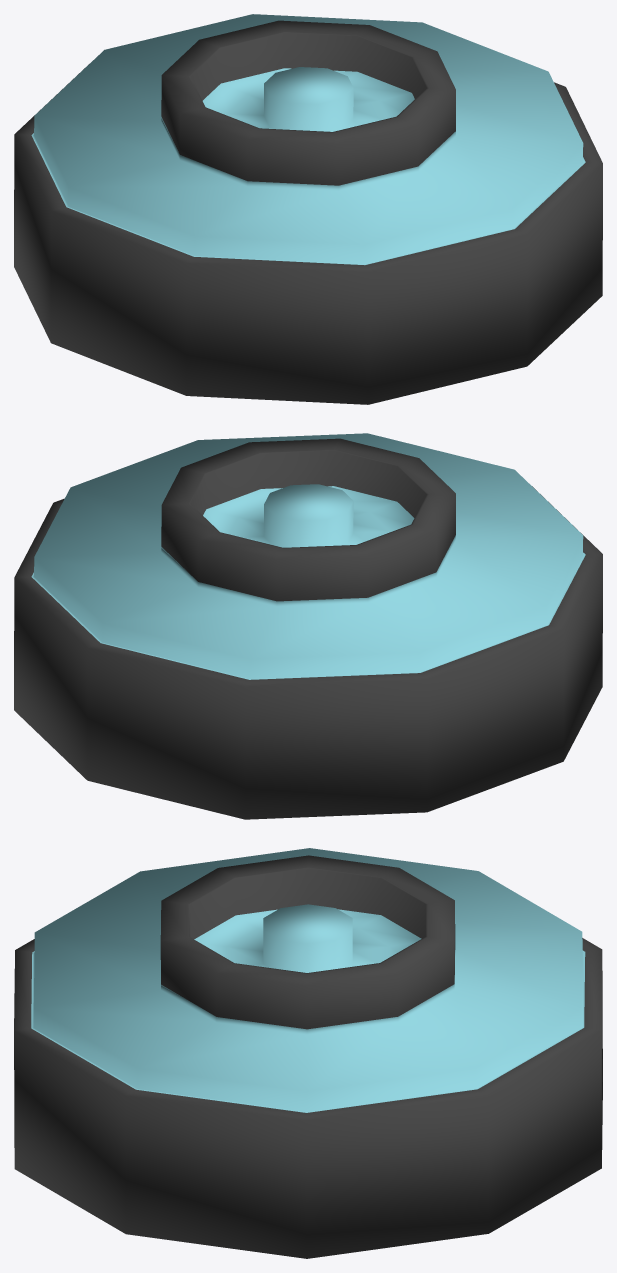
The model's file is Filter.fbx.
3 views of the same model, one above another, from view 1: azimuth 30°, elevation 25°; view 2: azimuth 150°, elevation 25°; view 3: azimuth 270°, elevation 25° (orthographic). The views are drawn at different scales.
Parts seen in each view (by area): view 1: Cylinder.001; view 2: Cylinder.001; view 3: Cylinder.001.
Boxes of the visible parts, x1,y1,x2,y2 form: Cylinder.001: (14, 14, 602, 404); Cylinder.001: (14, 433, 602, 819); Cylinder.001: (14, 848, 602, 1258).
Bounding box in the file's own units: 77.56 × 29 × 73.97.
